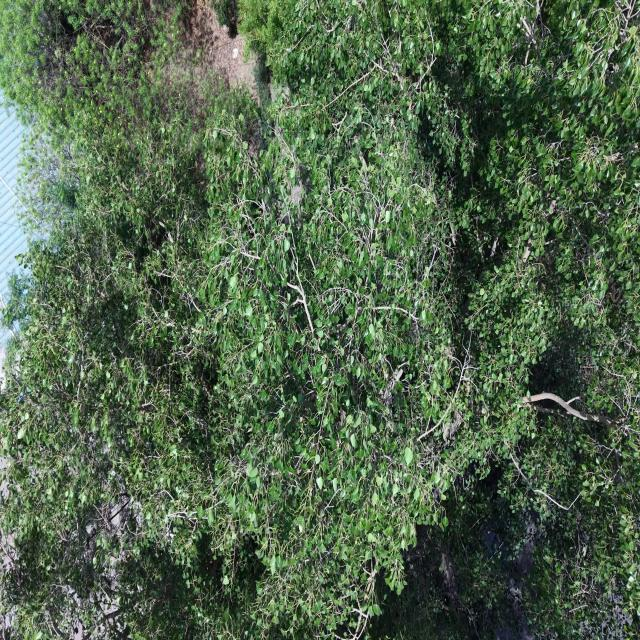DRY_AREA: (162, 0, 258, 117), (185, 0, 256, 97)
VEGETATION_TREE: (0, 0, 639, 639)
